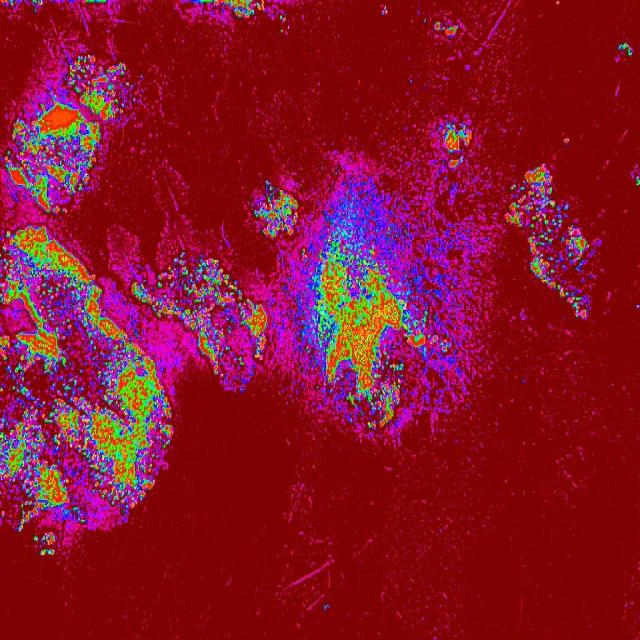fire: (278, 240, 458, 430), (0, 325, 128, 535), (128, 252, 272, 397), (5, 53, 132, 215), (508, 162, 598, 322), (0, 225, 116, 326), (314, 172, 424, 242), (128, 398, 172, 512), (249, 178, 302, 240), (437, 119, 473, 170), (186, 0, 267, 21), (32, 532, 56, 562), (432, 18, 457, 38), (28, 0, 44, 18), (616, 40, 633, 56), (2, 0, 21, 9), (562, 134, 572, 148), (84, 0, 112, 5), (276, 14, 288, 25), (322, 601, 330, 613), (379, 4, 388, 14), (633, 174, 640, 186), (278, 27, 286, 35), (138, 70, 144, 80), (408, 77, 414, 86)
